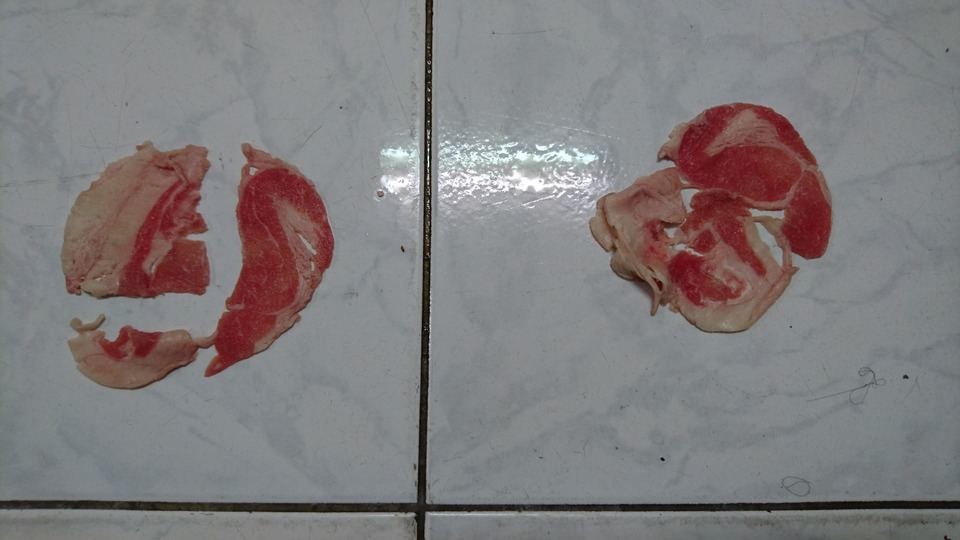restructured meat: (62, 140, 339, 394), (589, 99, 837, 335)
